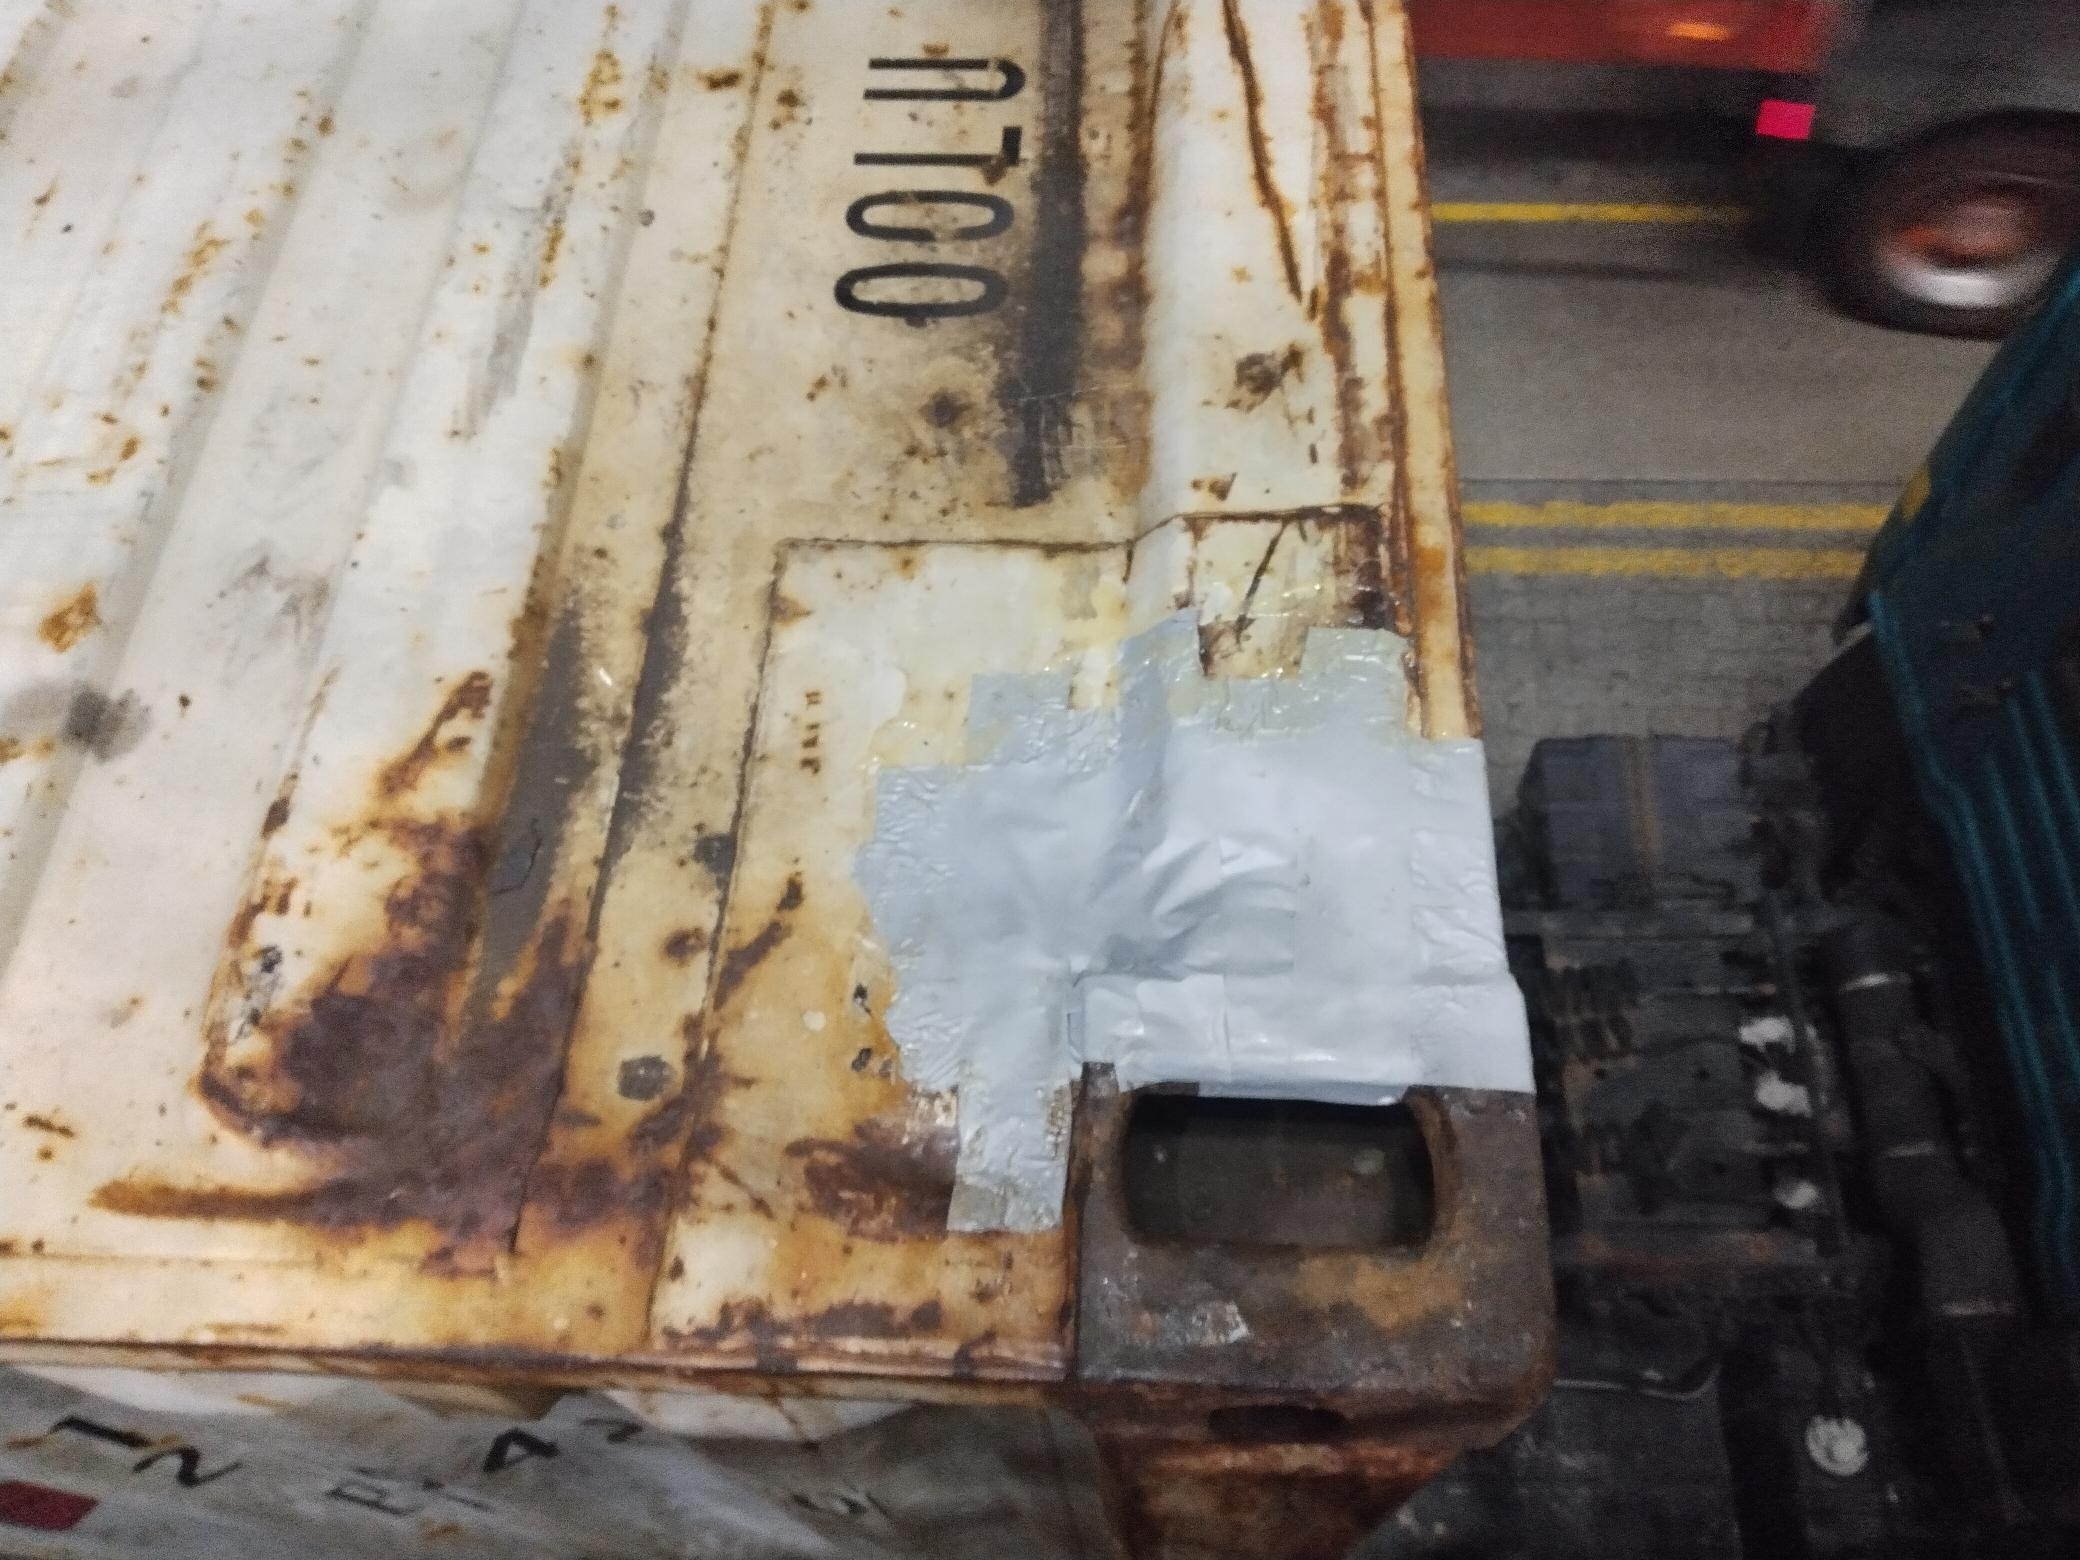minor: (193, 585, 704, 1281), (952, 28, 1133, 495)
